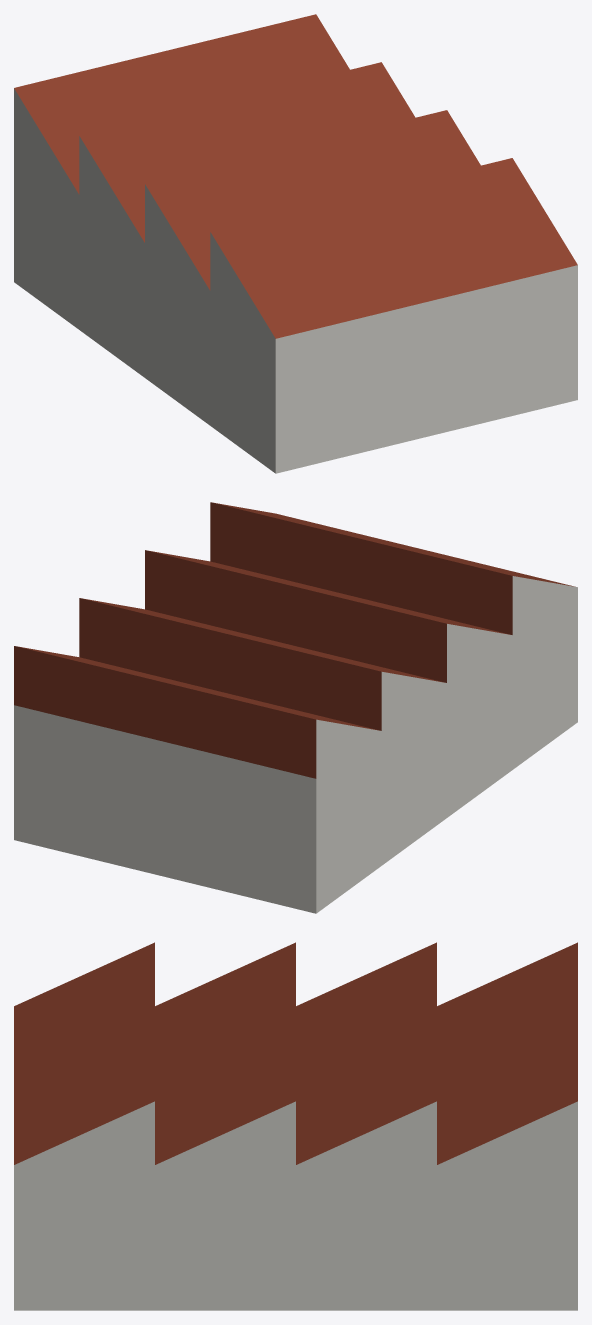
File: factory_1.glb
3 views of the same model, one above another, from view 1: azimuth 30°, elevation 25°; view 2: azimuth 150°, elevation 25°; view 3: azimuth 270°, elevation 25° (orthographic). The views are drawn at different scales.
Parts seen in each view (by area): view 1: Cube; view 2: Cube; view 3: Cube.
Part boxes in pixels (x1=…): Cube: x1=14, y1=14, x2=577, y2=473; Cube: x1=14, y1=502, x2=577, y2=913; Cube: x1=14, y1=942, x2=577, y2=1310.
Bounding box in the file's own units: 2 × 1.23 × 3.
